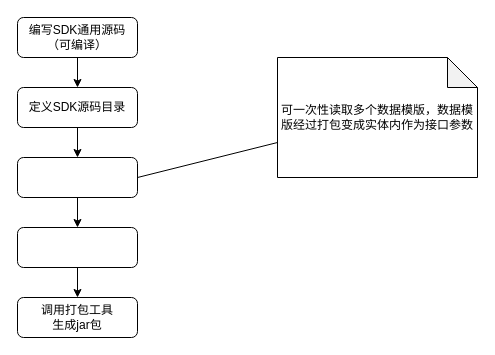
The diagram is 495 pixels wide and 355 high, and some of its shapes have lost their labels. Here are the shapes that lost their labels. From the top down, the centre of each, then its label:
At (x=77, y=177): "读取数据采集模版生成实体类java文件".
At (x=77, y=247): "加入SDK源码目录".
